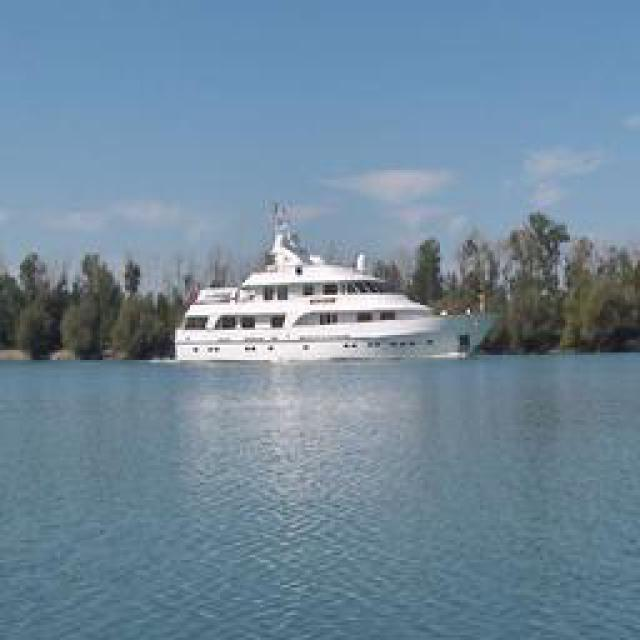Ship: (170, 207, 460, 367)
